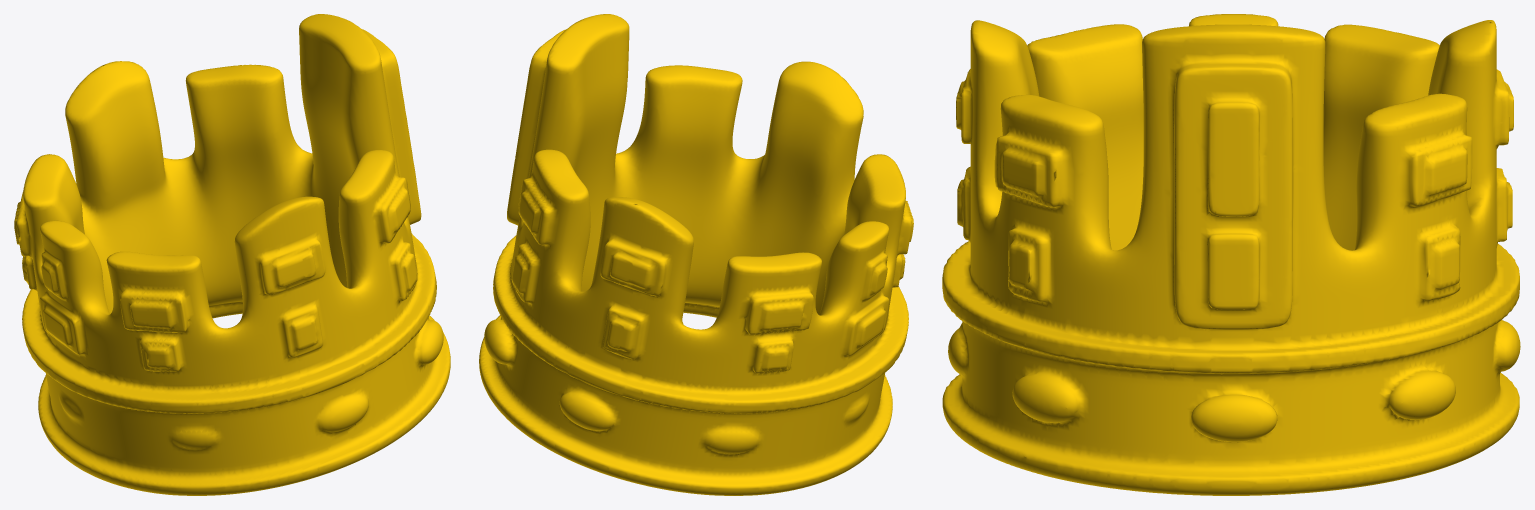
The model's file is corona.glb.
3 views of the same model, side by side, from view 1: azimuth 30°, elevation 25°; view 2: azimuth 150°, elevation 25°; view 3: azimuth 270°, elevation 25° (orthographic). The views are drawn at different scales.
Visible parts, largest first — view 1: Cubo.053; view 2: Cubo.053; view 3: Cubo.053.
Boxes of the visible parts, x1,y1,x2,y2 form: Cubo.053: (14,14,450,495); Cubo.053: (479,14,913,495); Cubo.053: (942,14,1520,495).
Size of the model in its own units: 0.1126 by 0.1059 by 0.1101.
